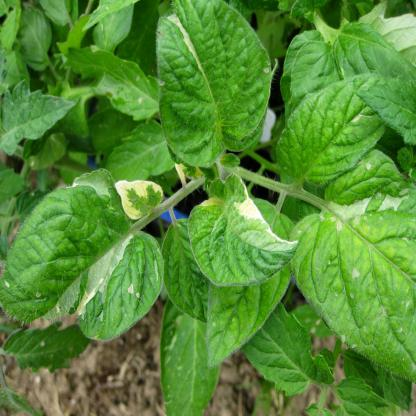tomato leaf: (154, 2, 274, 171), (279, 77, 384, 178), (0, 80, 77, 154)
